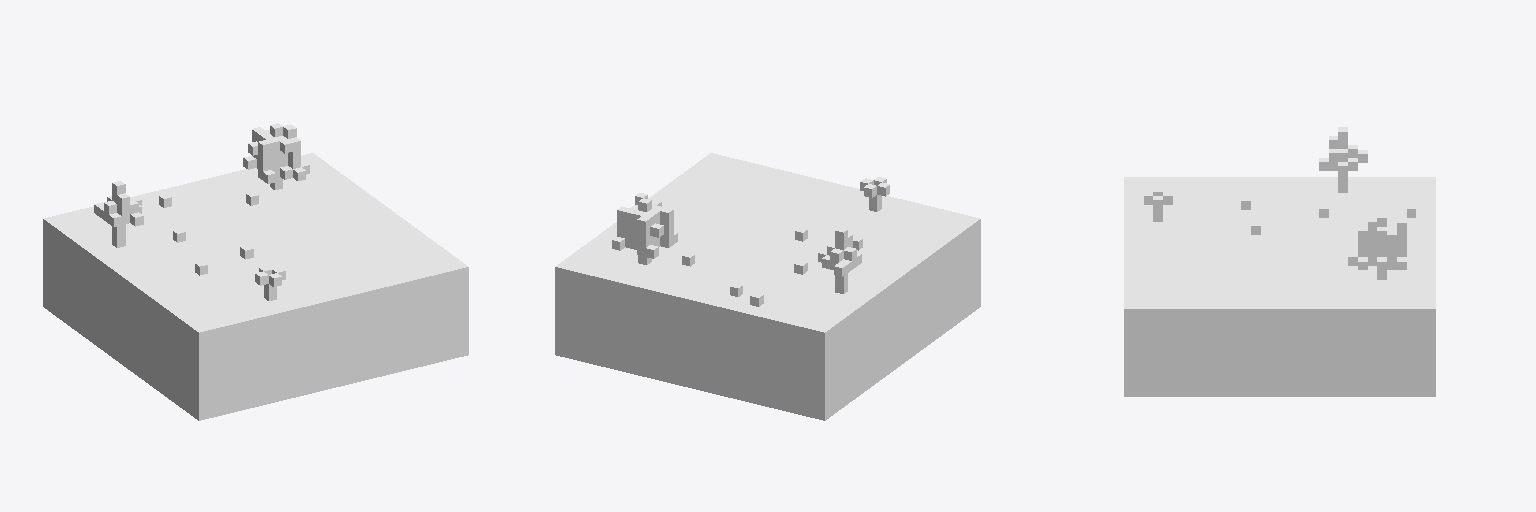
The model's file is Overworld_Beach_01.obj.
The picture shows the model from 3 angles: view 1: azimuth 30°, elevation 25°; view 2: azimuth 150°, elevation 25°; view 3: azimuth 270°, elevation 25°; orthographic projection.
Visible parts, largest first — view 1: object 1; view 2: object 1; view 3: object 1.
Boxes of the visible parts, x1=… form: object 1: x1=43, y1=123, x2=468, y2=420; object 1: x1=555, y1=153, x2=980, y2=420; object 1: x1=1124, y1=127, x2=1435, y2=396.
Size of the model in its own units: 3.2 by 1.7 by 3.2.